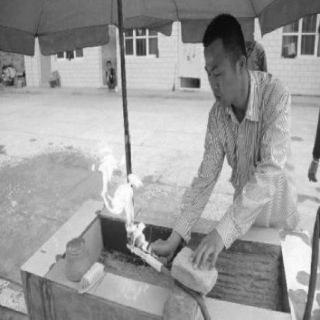Fire: (94, 143, 150, 253)
other: (0, 0, 188, 48)
